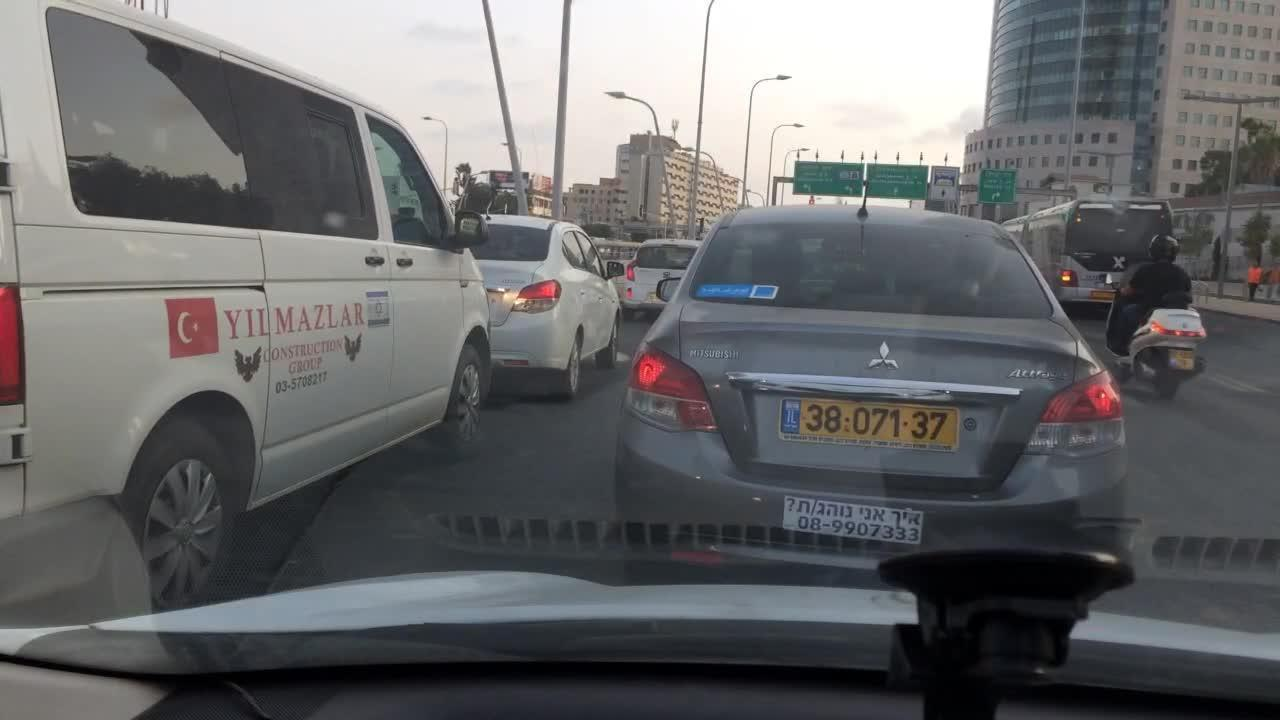Mitsubishi: (864, 335, 903, 375)
